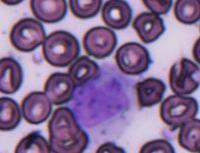M: (68, 64, 136, 128)
